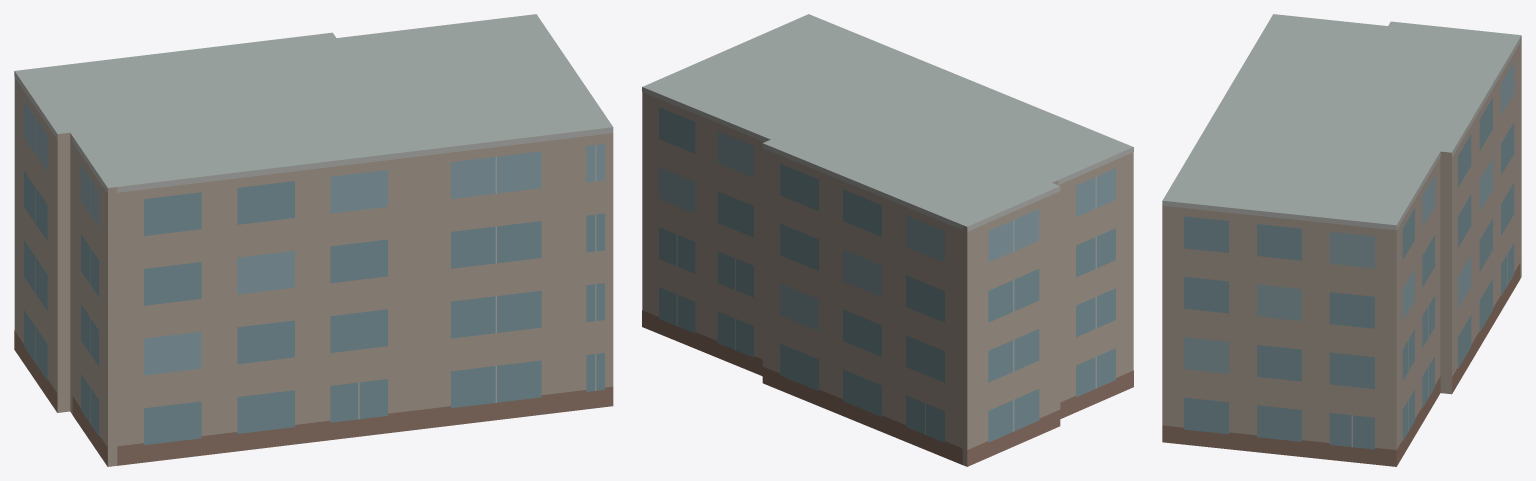
File: survey-upis-32895977.glb
3 views of the same model, side by side, from view 1: azimuth 30°, elevation 25°; view 2: azimuth 150°, elevation 25°; view 3: azimuth 270°, elevation 25° (orthographic). The views are drawn at different scales.
Parts seen in each view (by area): view 1: survey-upis-32895977.tmp; view 2: survey-upis-32895977.tmp; view 3: survey-upis-32895977.tmp.
Boxes of the visible parts, x1,y1,x2,y2 form: survey-upis-32895977.tmp: [14, 14, 613, 466]; survey-upis-32895977.tmp: [642, 14, 1133, 466]; survey-upis-32895977.tmp: [1162, 14, 1521, 466].
Bounding box in the file's own units: 21.86 × 11.65 × 15.71.
